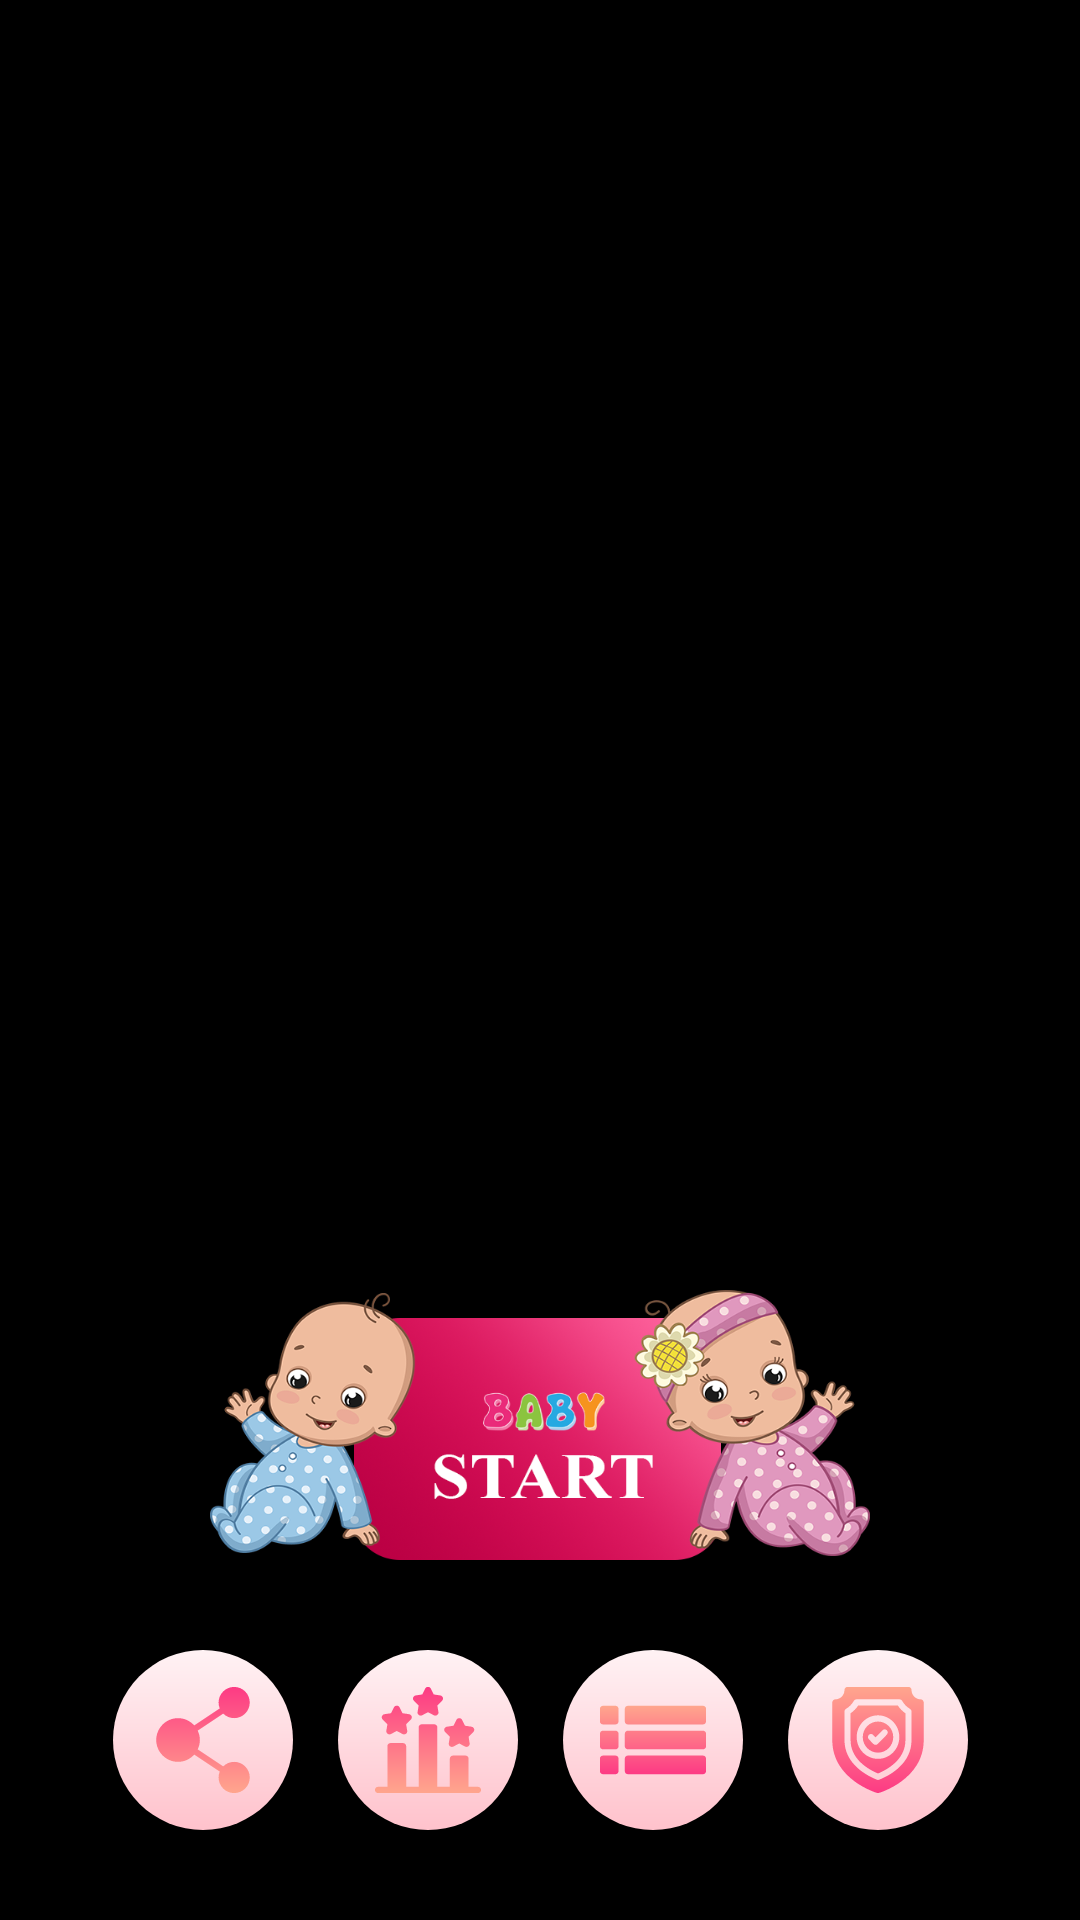

Screen size 1080w x 1920h. Icon name, then its box in pixels as (x1, y1, x2, y2):
menu: (563, 1650, 743, 1830)
sharing: (113, 1650, 293, 1830)
shield: (788, 1650, 968, 1830)
